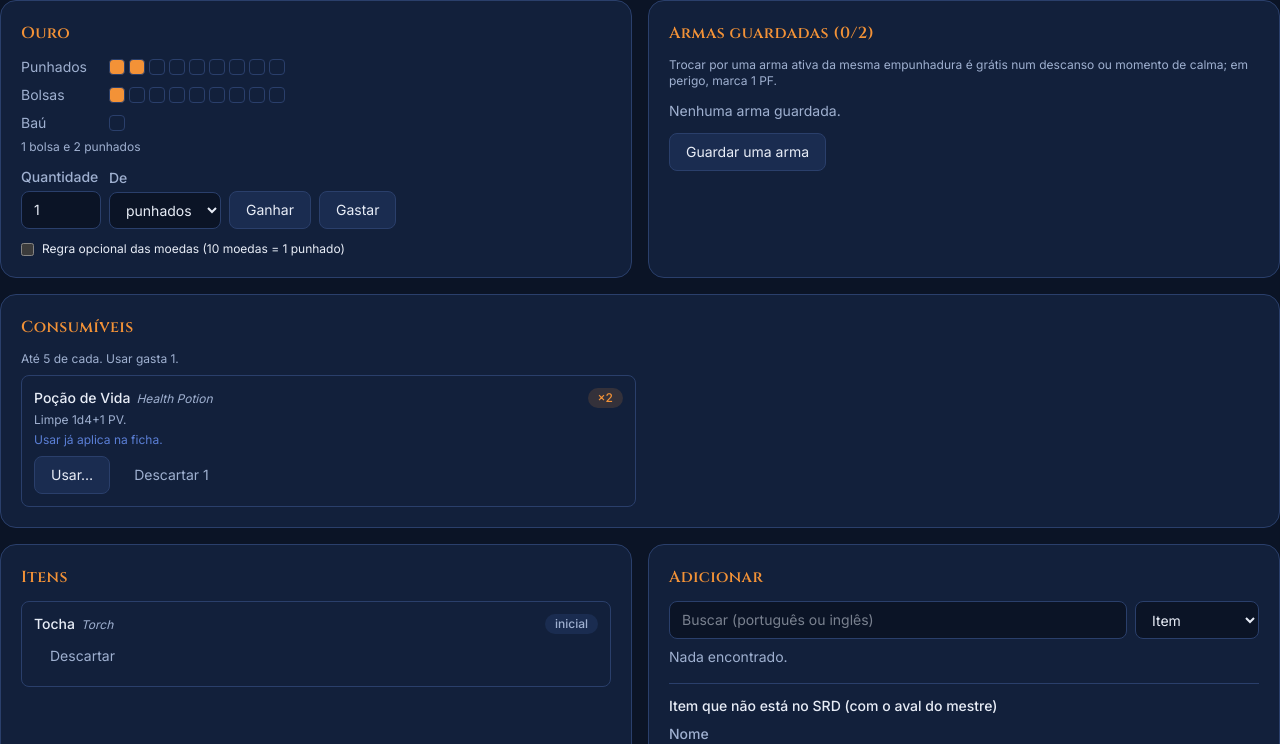
Scenario: Inventário › mostra o ouro e usa um consumível com o dado rolado na mesa
The width and height of the screenshot is (1280, 744).
Expected: the element named "Ouro: 1 bolsa e 2 punhados" is shown, x1=21 y1=58 x2=285 y2=154
Click the button "Usar…" at (72, 475), box x1=34 y1=456 x2=110 y2=494
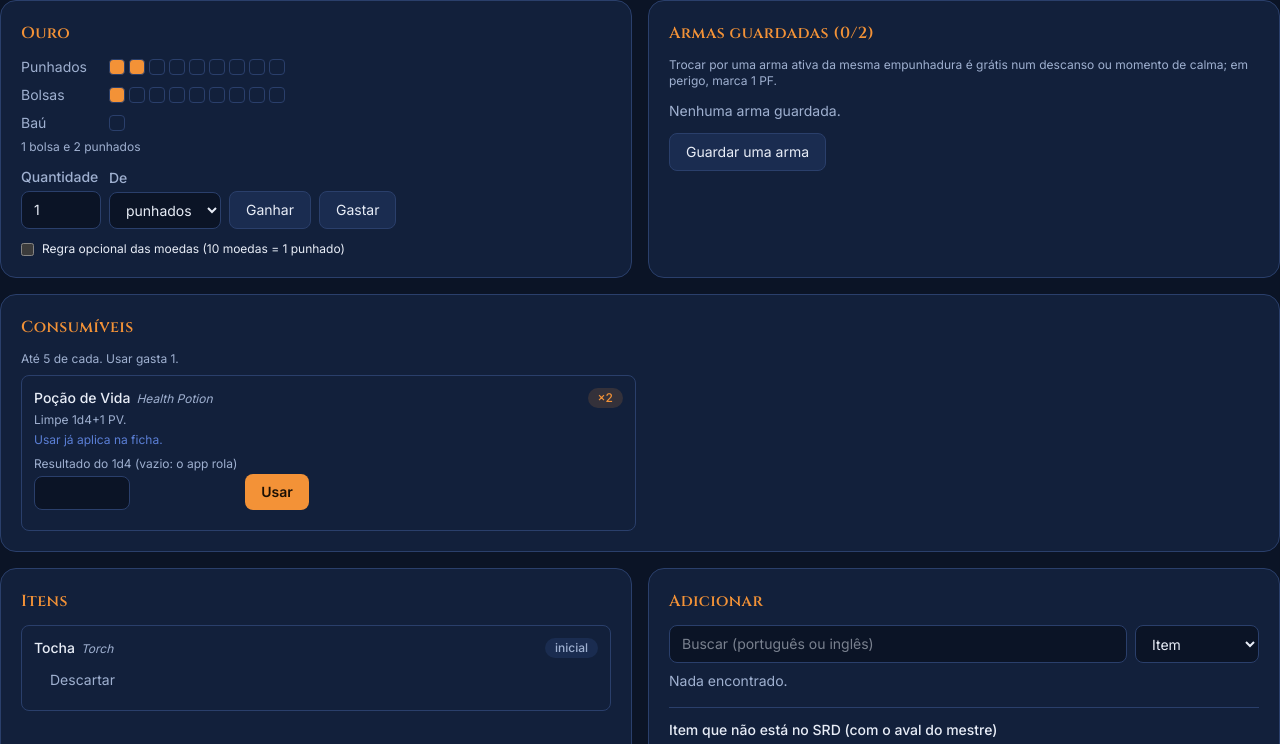
Type "3" into the number field named "Resultado do dado de Poção de Vida" at (82, 493), box x1=34 y1=476 x2=130 y2=510
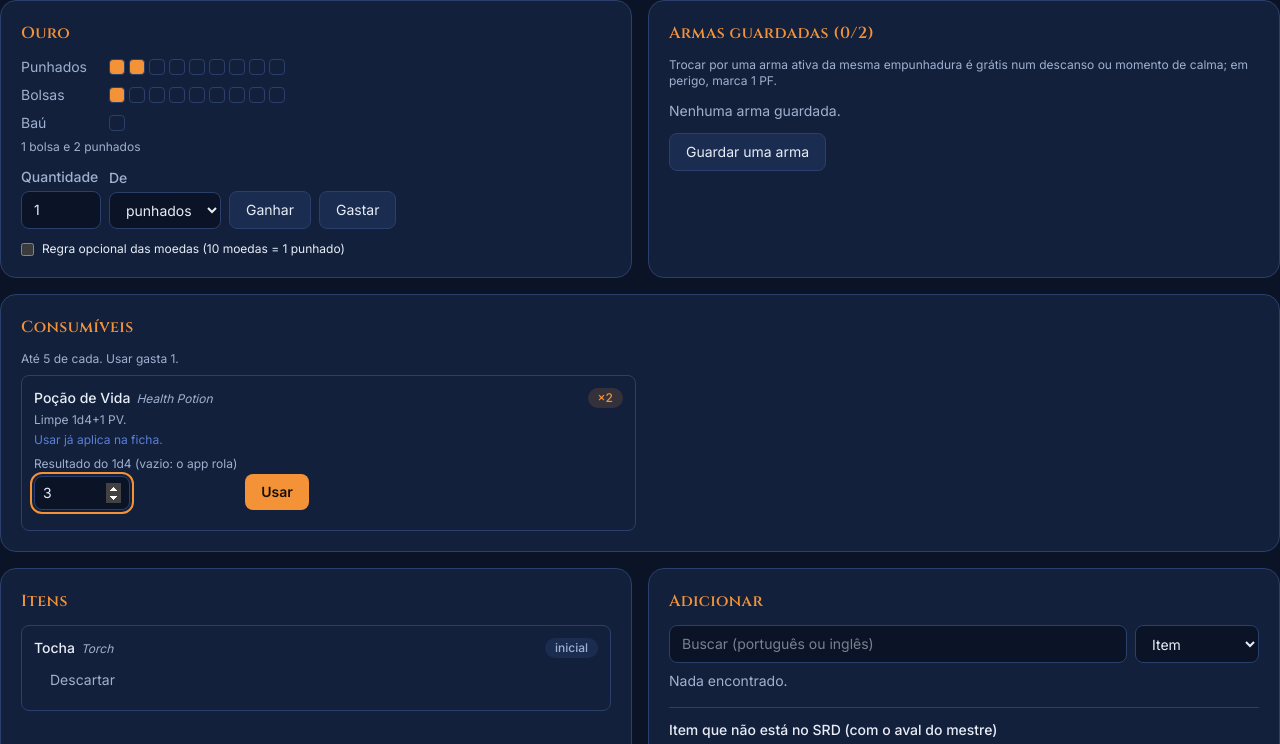
Click the button "Usar" at (277, 492), box x1=245 y1=474 x2=309 y2=510
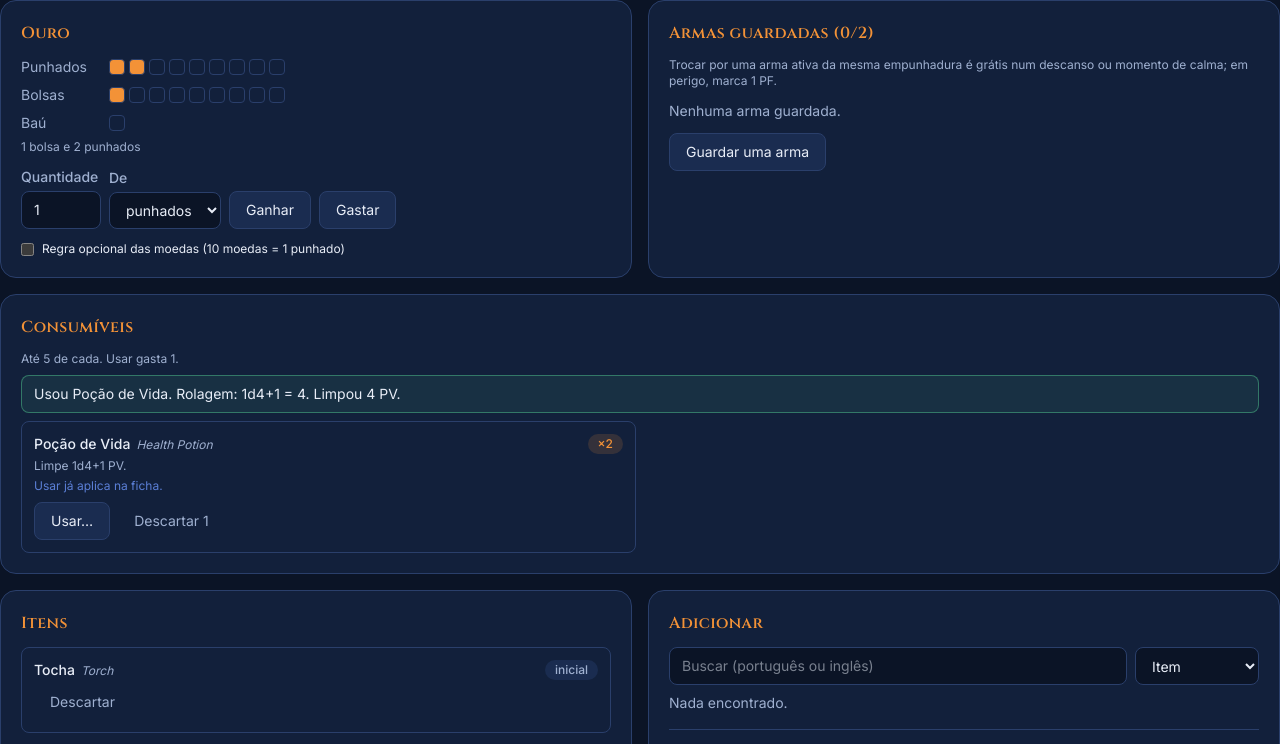
Now the text "Usou Poção de Vida. Rolagem: 1d4+1 = 4. Limpou 4 PV." is shown, box x1=21 y1=375 x2=1259 y2=413
